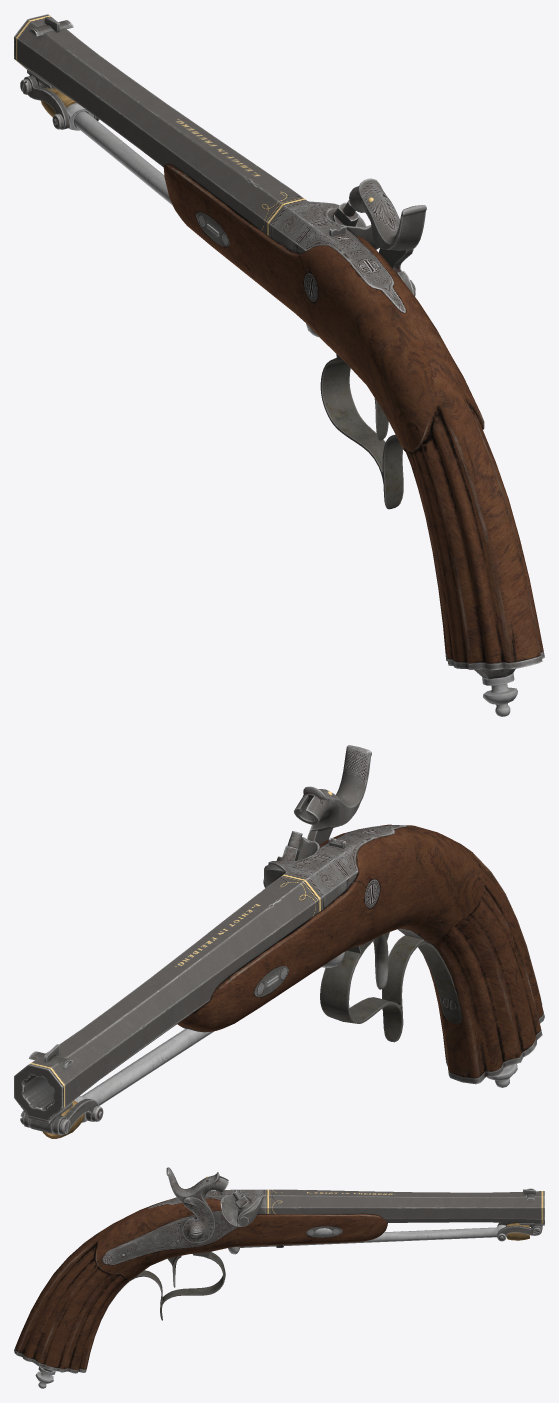
File: Pistol.obj
3 views of the same model, one above another, from view 1: azimuth 30°, elevation 25°; view 2: azimuth 150°, elevation 25°; view 3: azimuth 270°, elevation 25° (orthographic). The views are drawn at different scales.
Visible parts, largest first — view 1: korpus_wood_stv_B_test2_weld_01, obod_kruchka, kurok_B, tube_shonpola_weld, naboldashnik; view 2: korpus_wood_stv_B_test2_weld_01, obod_kruchka, kurok_B, tube_shonpola_weld, s_detail, spusk_kruchok; view 3: korpus_wood_stv_B_test2_weld_01, tube_shonpola_weld, kurok_A, obod_kruchka, kurok_B, s_detail.
Part boxes in pixels (bbox=[...]): korpus_wood_stv_B_test2_weld_01: bbox=[14, 14, 544, 678]; obod_kruchka: bbox=[320, 354, 403, 509]; kurok_B: bbox=[349, 178, 426, 250]; tube_shonpola_weld: bbox=[74, 111, 172, 205]; naboldashnik: bbox=[482, 673, 517, 716]; korpus_wood_stv_B_test2_weld_01: bbox=[14, 824, 544, 1120]; obod_kruchka: bbox=[320, 935, 425, 1042]; kurok_B: bbox=[294, 745, 371, 831]; tube_shonpola_weld: bbox=[82, 1028, 213, 1105]; s_detail: bbox=[23, 1099, 98, 1135]; spusk_kruchok: bbox=[373, 932, 389, 989]; korpus_wood_stv_B_test2_weld_01: bbox=[14, 1189, 544, 1373]; tube_shonpola_weld: bbox=[240, 1227, 506, 1247]; kurok_A: bbox=[182, 1197, 214, 1242]; obod_kruchka: bbox=[136, 1251, 225, 1320]; kurok_B: bbox=[166, 1167, 228, 1205]; s_detail: bbox=[497, 1222, 541, 1239].
Size of the model in its own units: 205 by 895 by 1908.
Materials: 1 (1 with a texture image).
